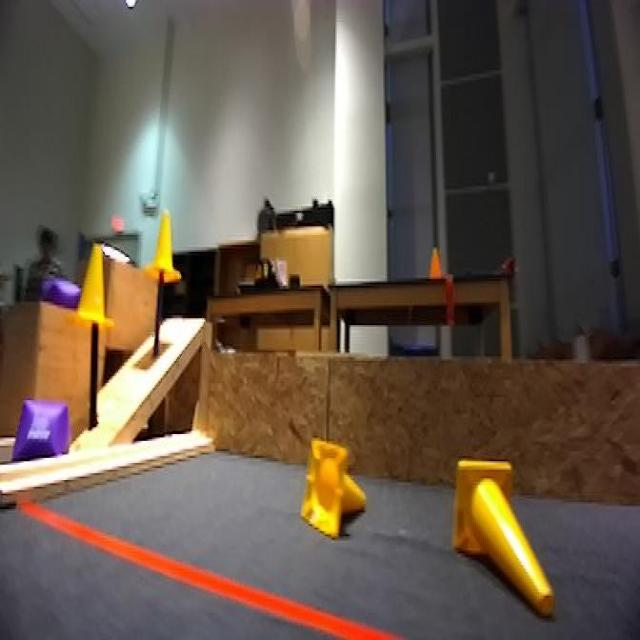frc_cone: (453, 454, 557, 620), (296, 439, 369, 541), (76, 223, 118, 334), (154, 218, 178, 293)
frc_cube: (14, 398, 72, 468), (35, 274, 86, 310)
